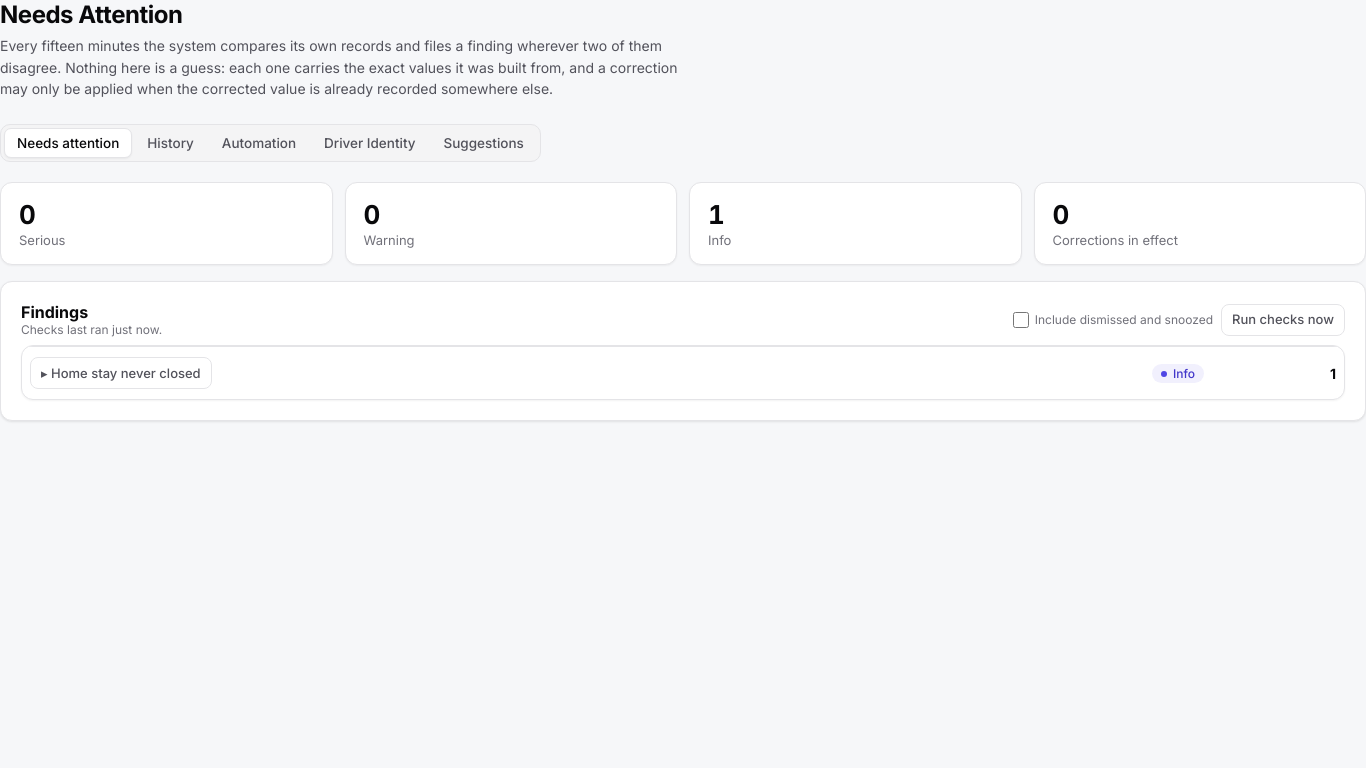
looking is not changing › a 409 says the evidence moved and reloads instead of offering a retry
This screenshot has width=1366, height=768.
Click the button "▸ Home stay never closed" at (121, 373), box left=30, top=357, right=212, bottom=389
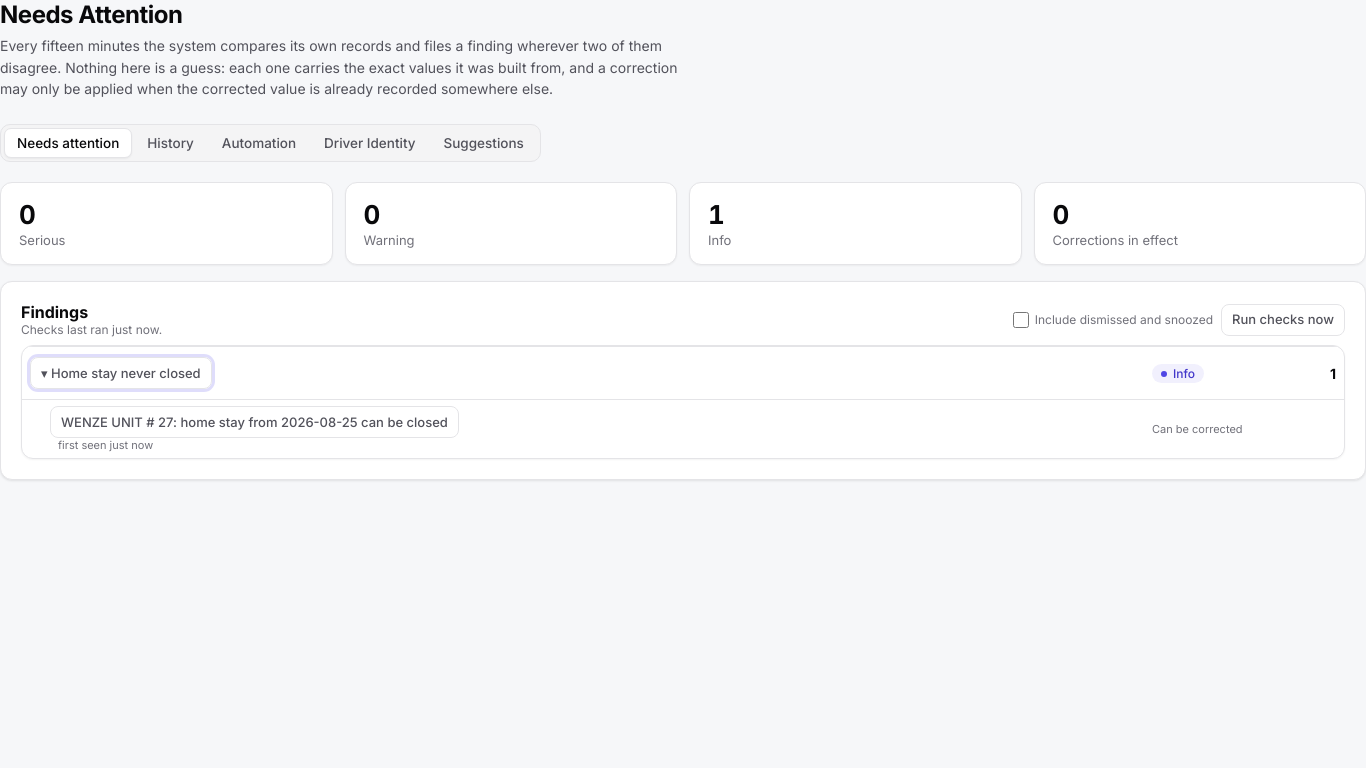
Click the button "WENZE UNIT # 27: home stay from 2026-08-25 can be closed" at (254, 422), box left=50, top=406, right=459, bottom=438
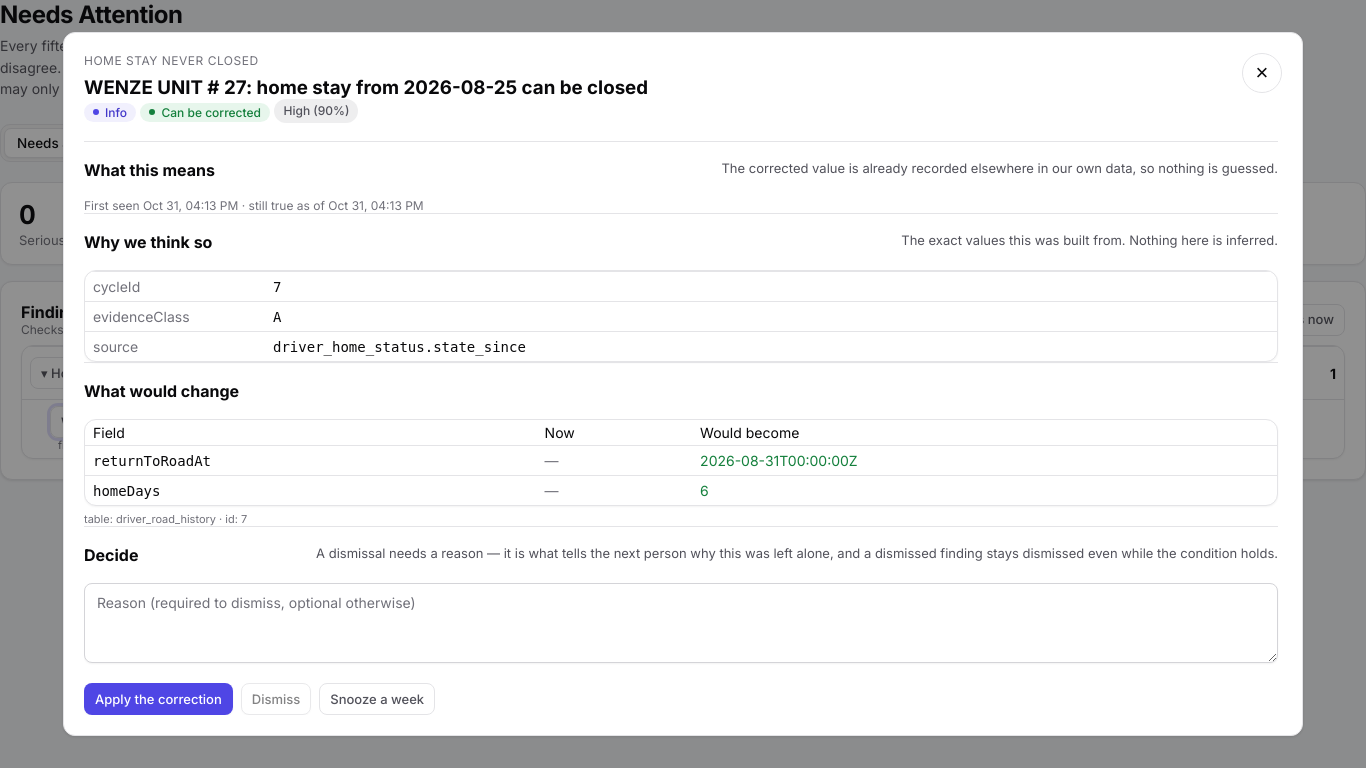
Click the button "Apply the correction" at (158, 699), box left=84, top=683, right=233, bottom=715
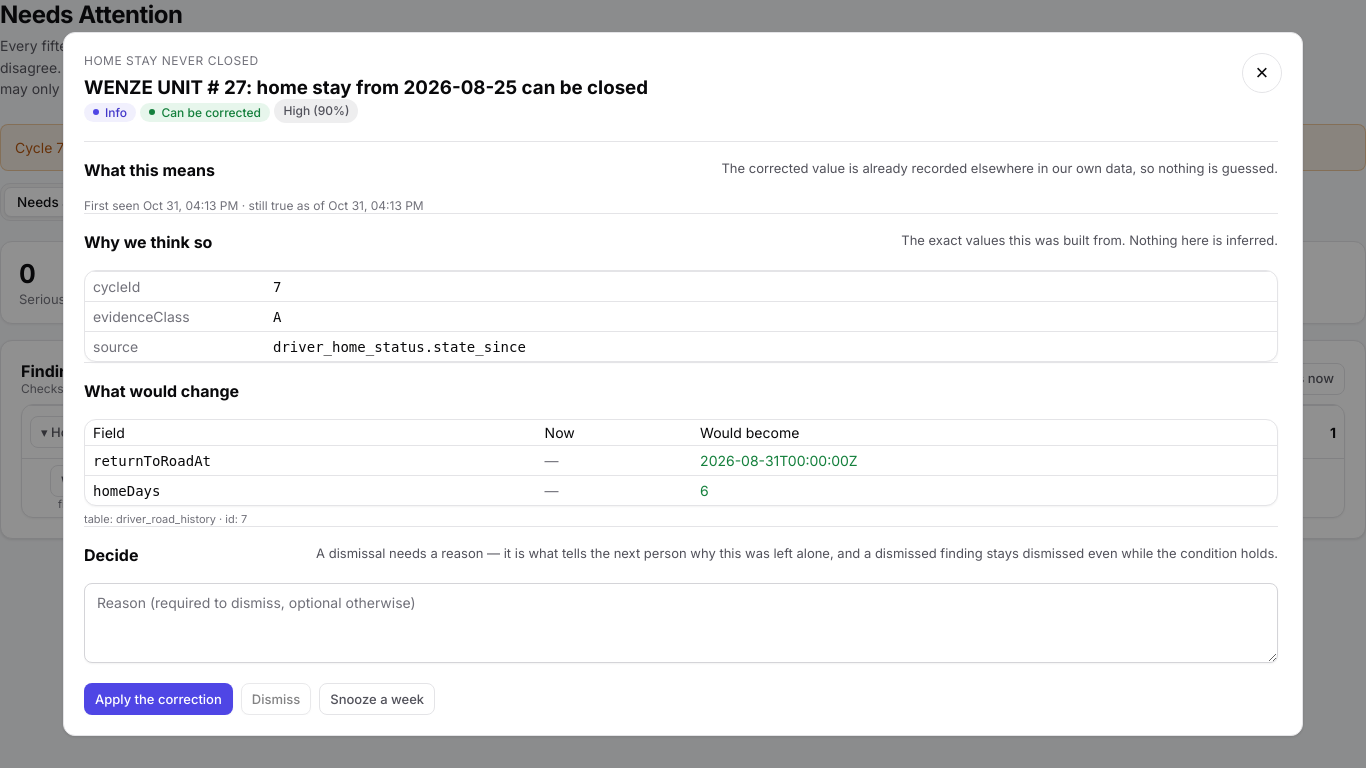
Result: the text "reloading what is there now" is shown at left=15, top=139, right=542, bottom=156
